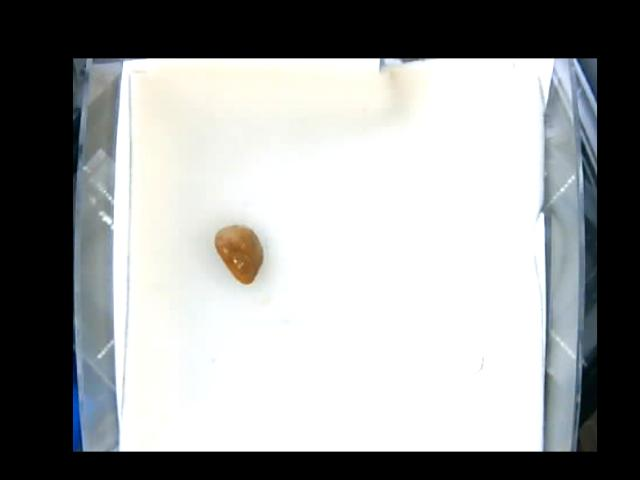Pebble: (206, 224, 261, 285)
